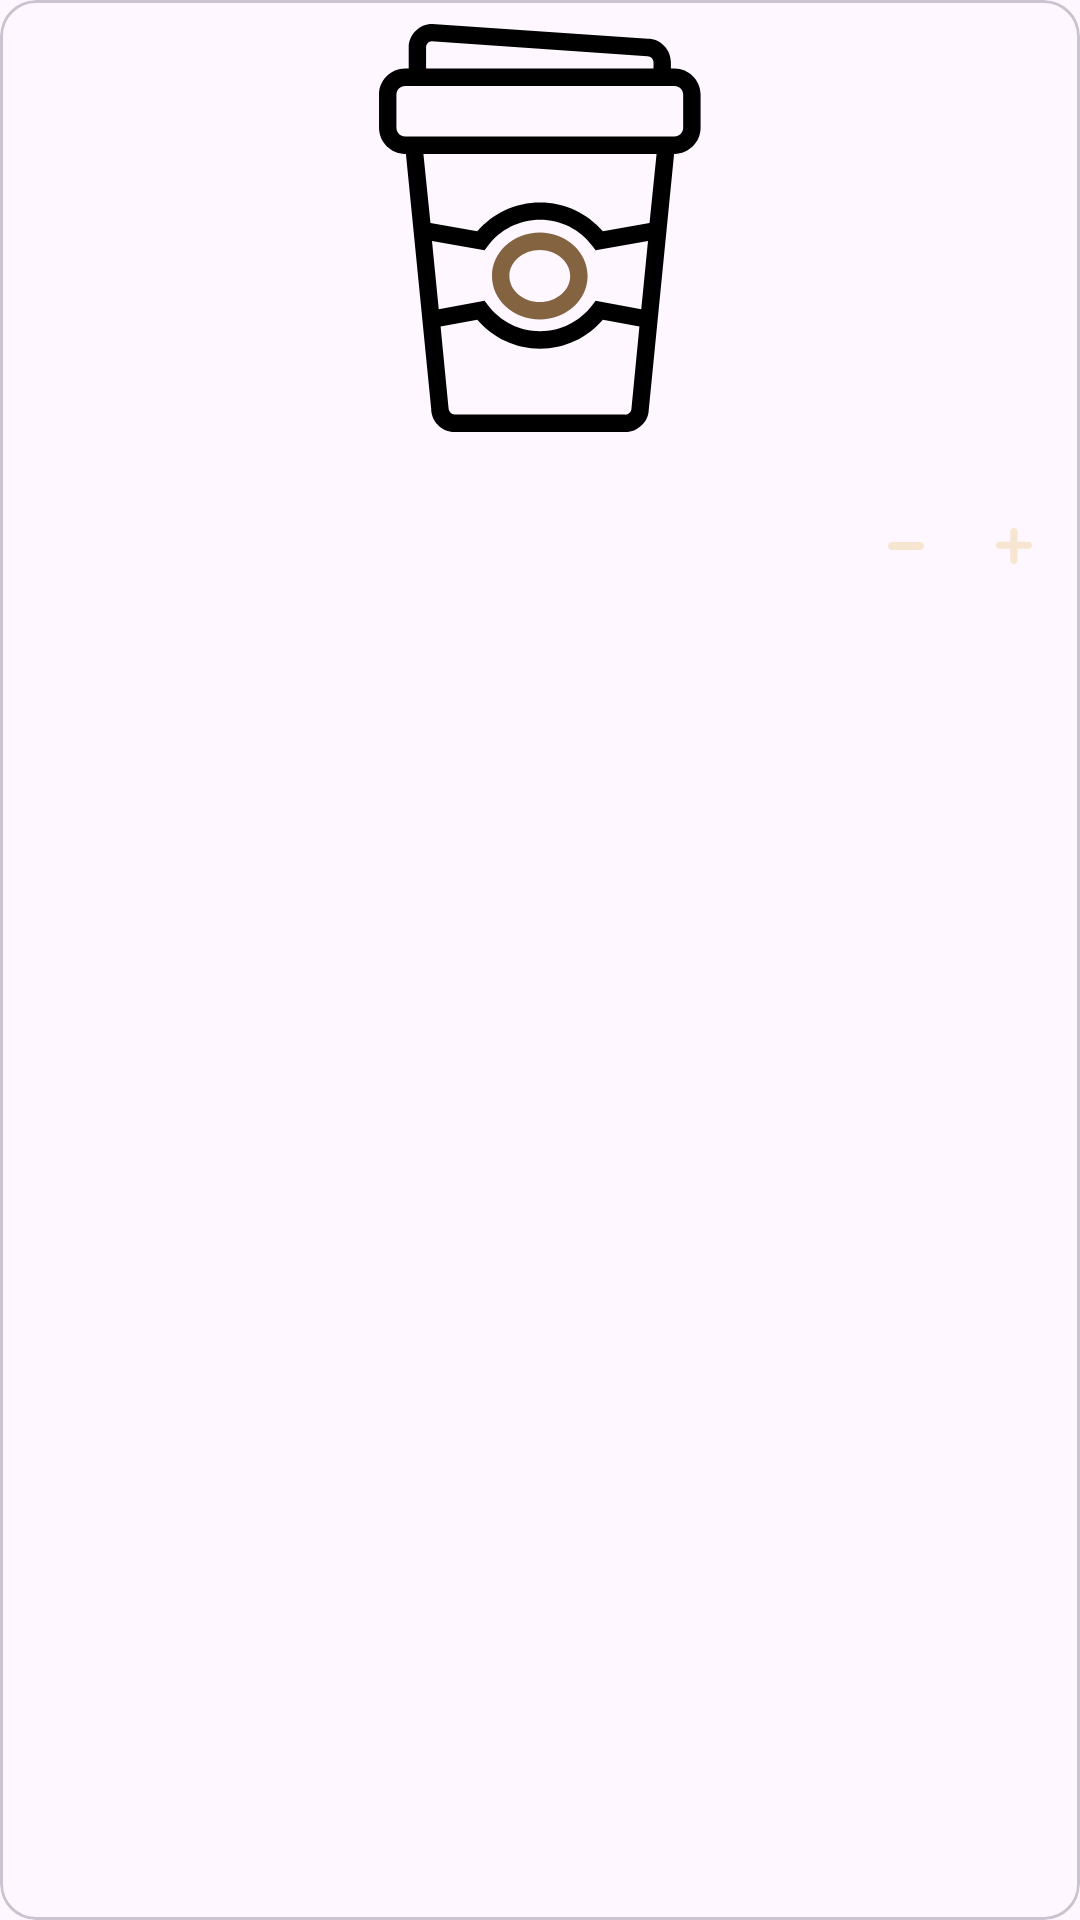

Icon click points for this 1080x1920 phone screenshot, format [x,y]:
Plus: [1014,546]
